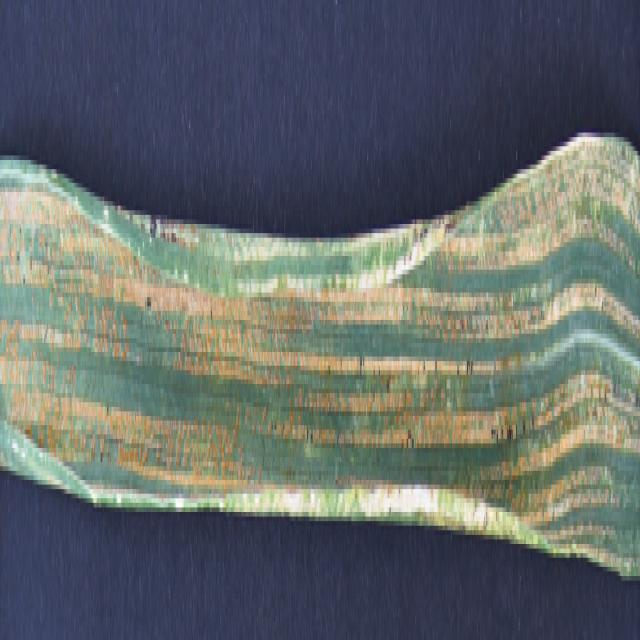leaf rust: (1, 178, 334, 530)
